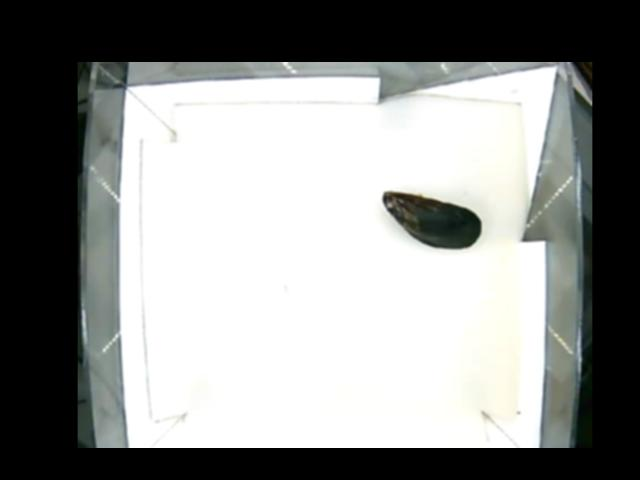Shell: (380, 189, 482, 250)
